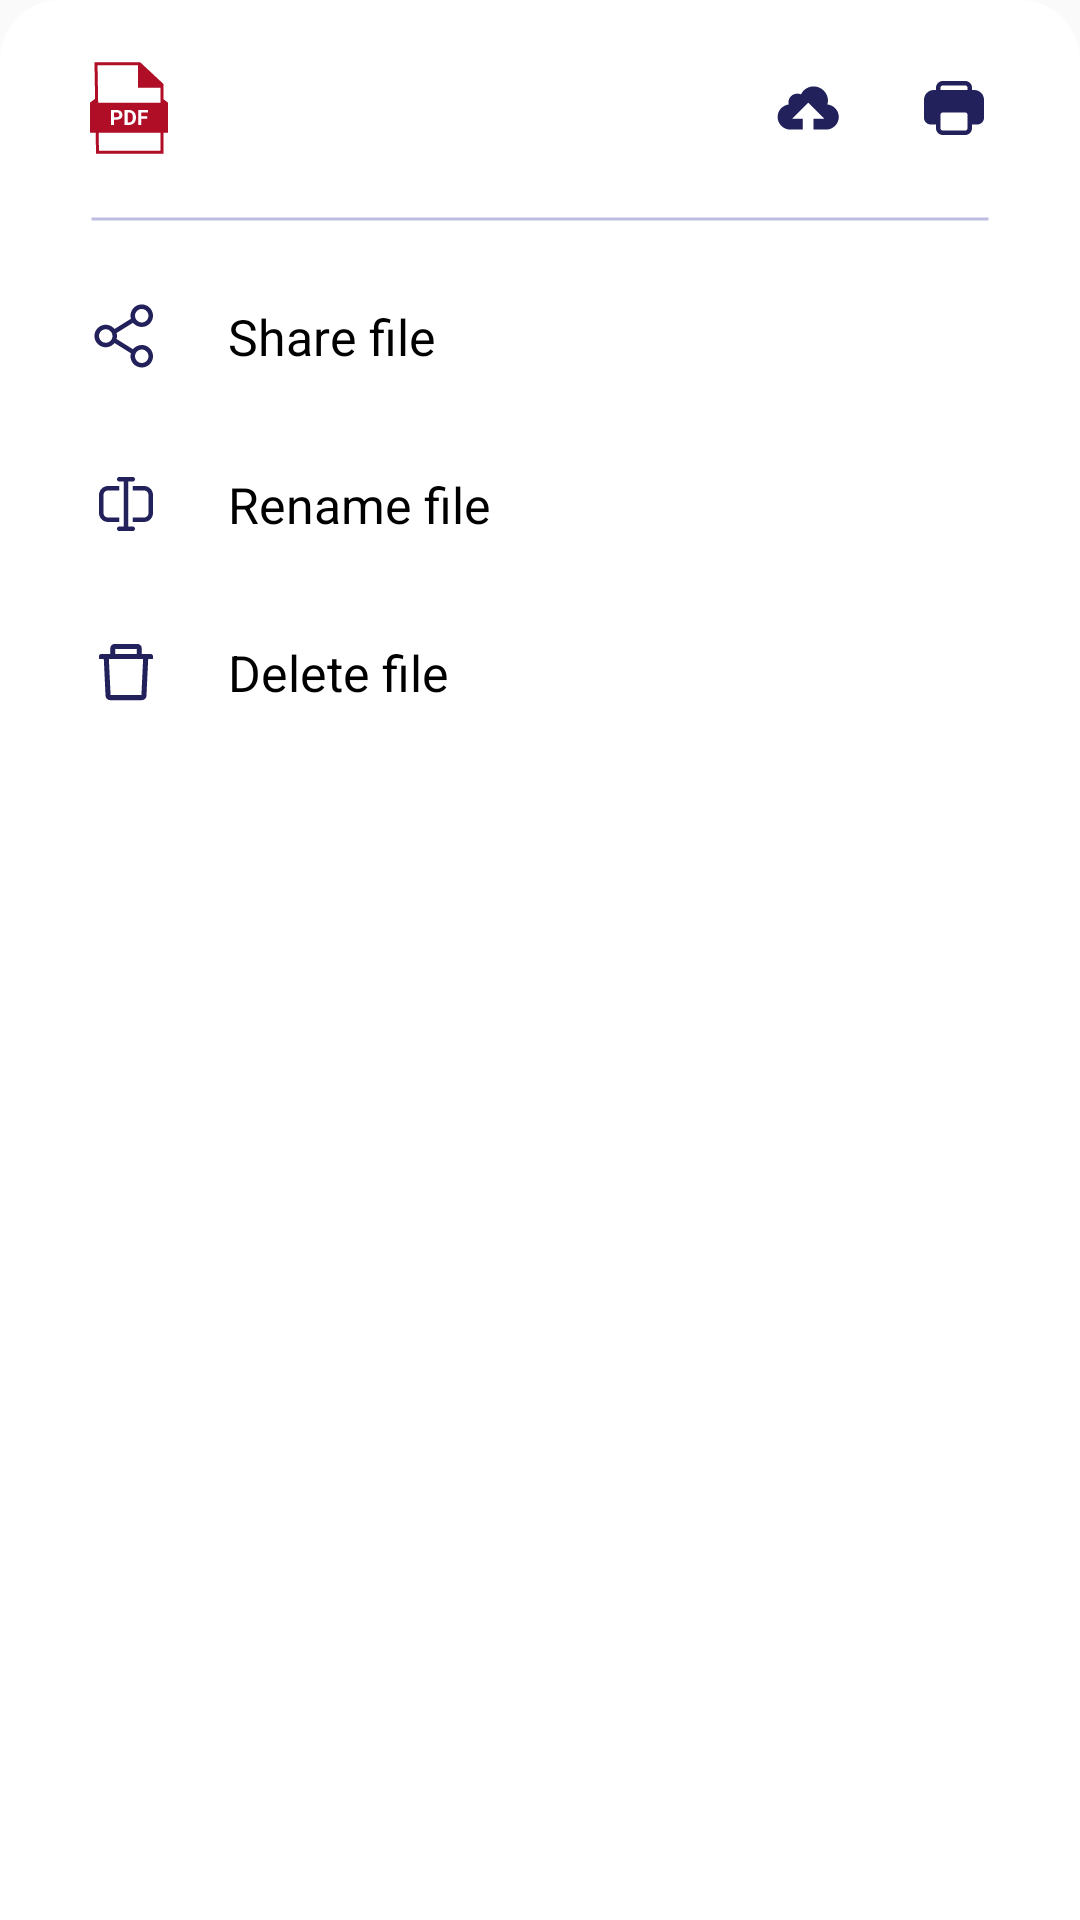

Screen size 1080 × 1920. Icon name, then its box in pixels as (x1=x1, y1=y1, x2=x2, y2=y2):
print: (x1=924, y1=81, x2=984, y2=135)
upload: (x1=777, y1=86, x2=839, y2=130)
